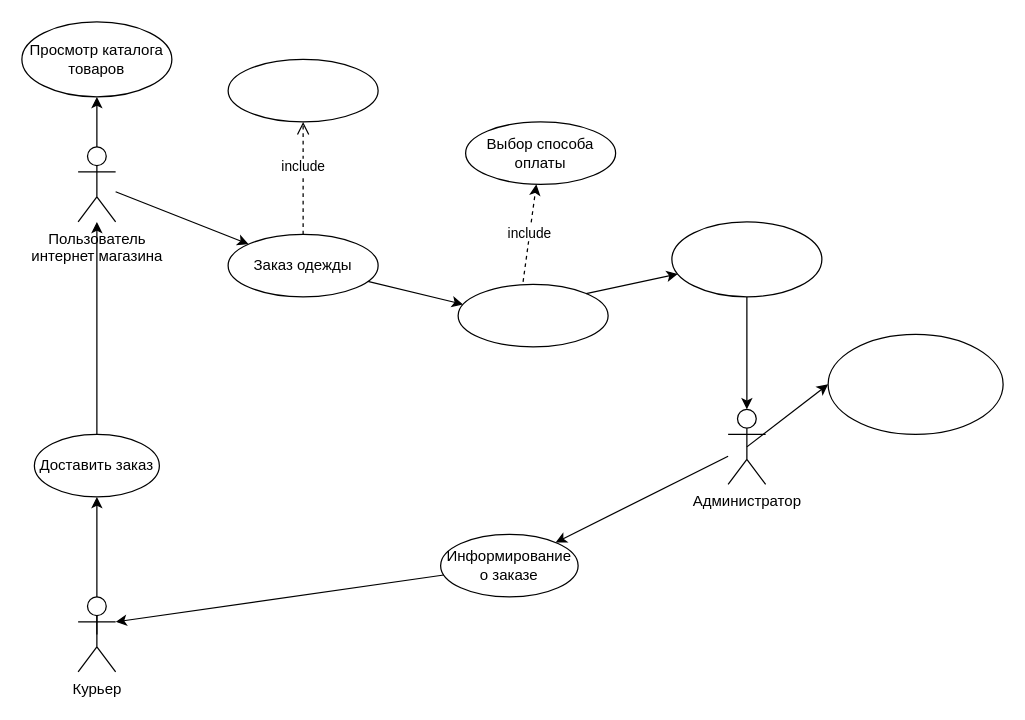
Some shapes in this 1025 by 720 pixel diagram are drawn without their labels. Here are the shapes that lost their labels. From the top down, the centre of each, then its label:
At [302,90]: "Выбор способа доставки".
At [746,259]: "Подтверждение оплаты".
At [532,315]: "Оплатить заказ".
At [915,383]: "Изменение каталога товаров".
